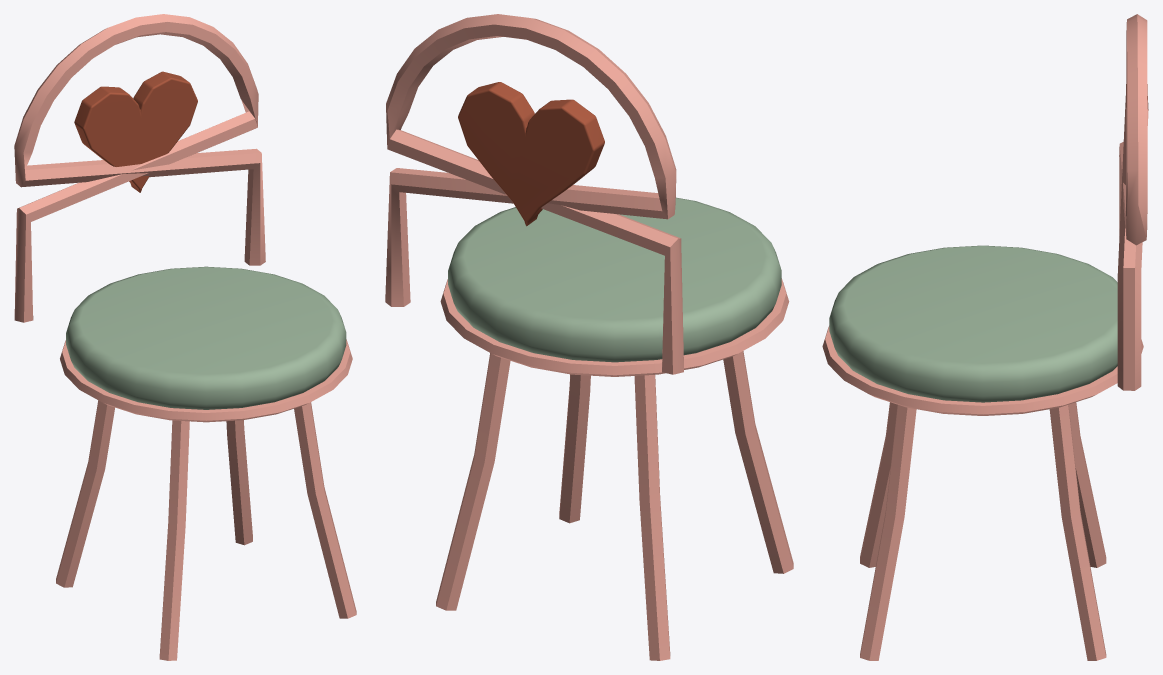
The model's file is chair_bistro_curvy.glb.
3 views of the same model, side by side, from view 1: azimuth 30°, elevation 25°; view 2: azimuth 150°, elevation 25°; view 3: azimuth 270°, elevation 25° (orthographic). The views are drawn at different scales.
Parts seen in each view (by area): view 1: chair_bistro_curvy; view 2: chair_bistro_curvy; view 3: chair_bistro_curvy.
Boxes of the visible parts, bbox=[...] form: chair_bistro_curvy: bbox=[14, 14, 356, 660]; chair_bistro_curvy: bbox=[385, 14, 793, 660]; chair_bistro_curvy: bbox=[822, 14, 1148, 660].
Size of the model in its own units: 0.439 by 0.8795 by 0.4455.
